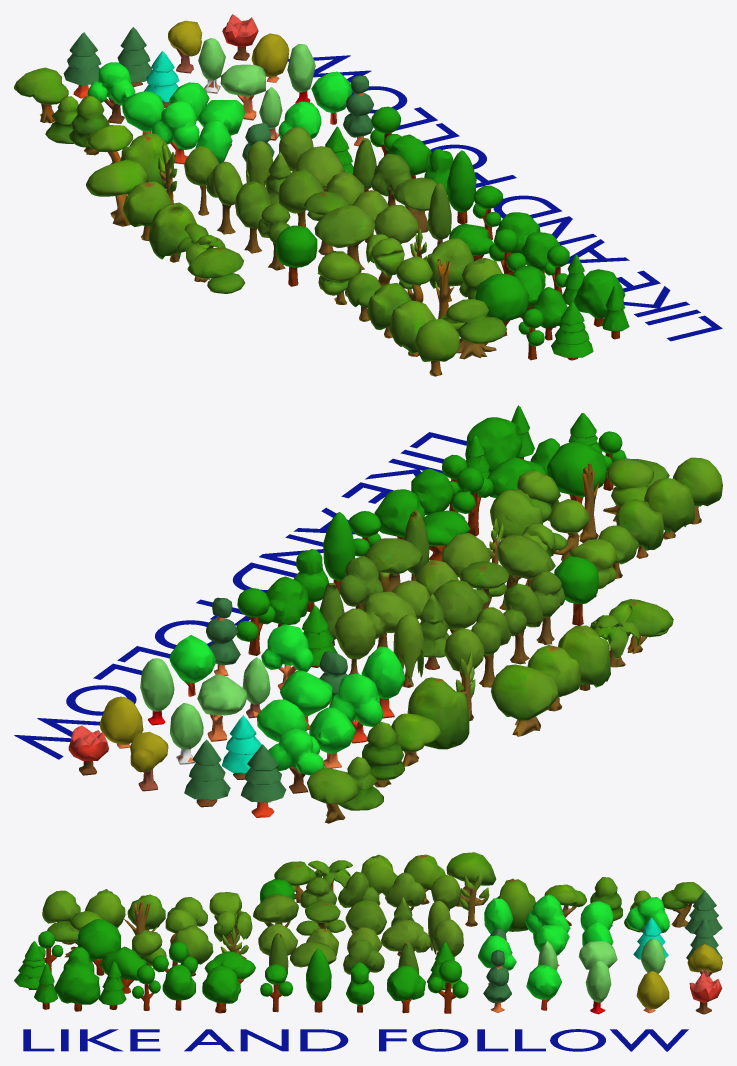
Rendered from tree_pack_free.glb.
The picture shows the model from 3 angles, top to bottom: view 1: azimuth 30°, elevation 25°; view 2: azimuth 150°, elevation 25°; view 3: azimuth 270°, elevation 25°; orthographic projection. The views are drawn at different scales.
Visible parts, largest first — view 1: Text.001_82, NewTrees.022_80, TREE1.006_45, NewTrees.017_75, Trees.014_6, NewTrees.021_79, NewTrees.019_77, T16_33, NewTrees.010_68, TREE1.001_11, T18_31, NewTrees.011_69 (+68 smaller); view 2: Text.001_82, NewTrees.017_75, NewTrees.015_73, Trees.014_6, T16_33, NewTrees.019_77, T18_31, NewTrees.022_80, TREE1.006_45, T5_25, NewTrees.009_67, T19_30 (+65 smaller); view 3: Text.001_82, Trees.012_5, Trees.014_6, NewTrees.017_75, Trees.008_14, Trees.006_3, NewTrees.015_73, TREE1.014_53, Trees.007_4, Trees.003_1, TREE1.007_46, TREE1.006_45 (+67 smaller).
Part boxes in pixels (x1,y1,x2,y2): Text.001_82: [288, 55, 722, 341]; NewTrees.022_80: [439, 299, 506, 359]; TREE1.006_45: [314, 205, 375, 270]; NewTrees.017_75: [86, 159, 148, 226]; Trees.014_6: [475, 273, 528, 336]; NewTrees.021_79: [187, 247, 245, 293]; NewTrees.019_77: [148, 202, 196, 262]; T16_33: [151, 101, 199, 164]; NewTrees.010_68: [414, 318, 459, 376]; TREE1.001_11: [276, 225, 317, 286]; T18_31: [87, 62, 135, 123]; NewTrees.011_69: [14, 67, 68, 123]; Text.001_82: [14, 432, 466, 759]; NewTrees.017_75: [490, 664, 558, 736]; NewTrees.015_73: [407, 677, 469, 749]; Trees.014_6: [547, 442, 606, 503]; T16_33: [329, 673, 382, 743]; NewTrees.019_77: [558, 625, 610, 690]; T18_31: [268, 728, 324, 793]; NewTrees.022_80: [603, 458, 669, 521]; TREE1.006_45: [497, 535, 555, 610]; T5_25: [261, 624, 313, 690]; NewTrees.009_67: [644, 478, 694, 539]; T19_30: [241, 744, 286, 817]; Text.001_82: [23, 1029, 688, 1051]; Trees.012_5: [54, 962, 100, 1011]; Trees.014_6: [78, 919, 120, 975]; NewTrees.017_75: [446, 852, 496, 906]; Trees.008_14: [202, 965, 240, 1013]; Trees.006_3: [387, 965, 425, 1013]; NewTrees.015_73: [496, 878, 535, 931]; TREE1.014_53: [381, 919, 430, 954]; Trees.007_4: [428, 959, 468, 1013]; Trees.003_1: [306, 948, 331, 1012]; TREE1.007_46: [296, 901, 346, 935]; TREE1.006_45: [253, 894, 298, 927].
Bounding box in the file's own units: 1.71 × 0.3265 × 3.23.
19 materials, 2 textured.
